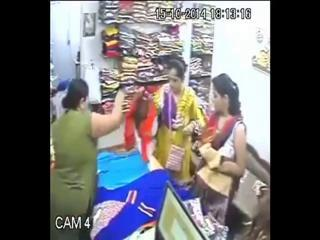Normal: (50, 78, 131, 240), (190, 72, 248, 230), (154, 62, 207, 183)
